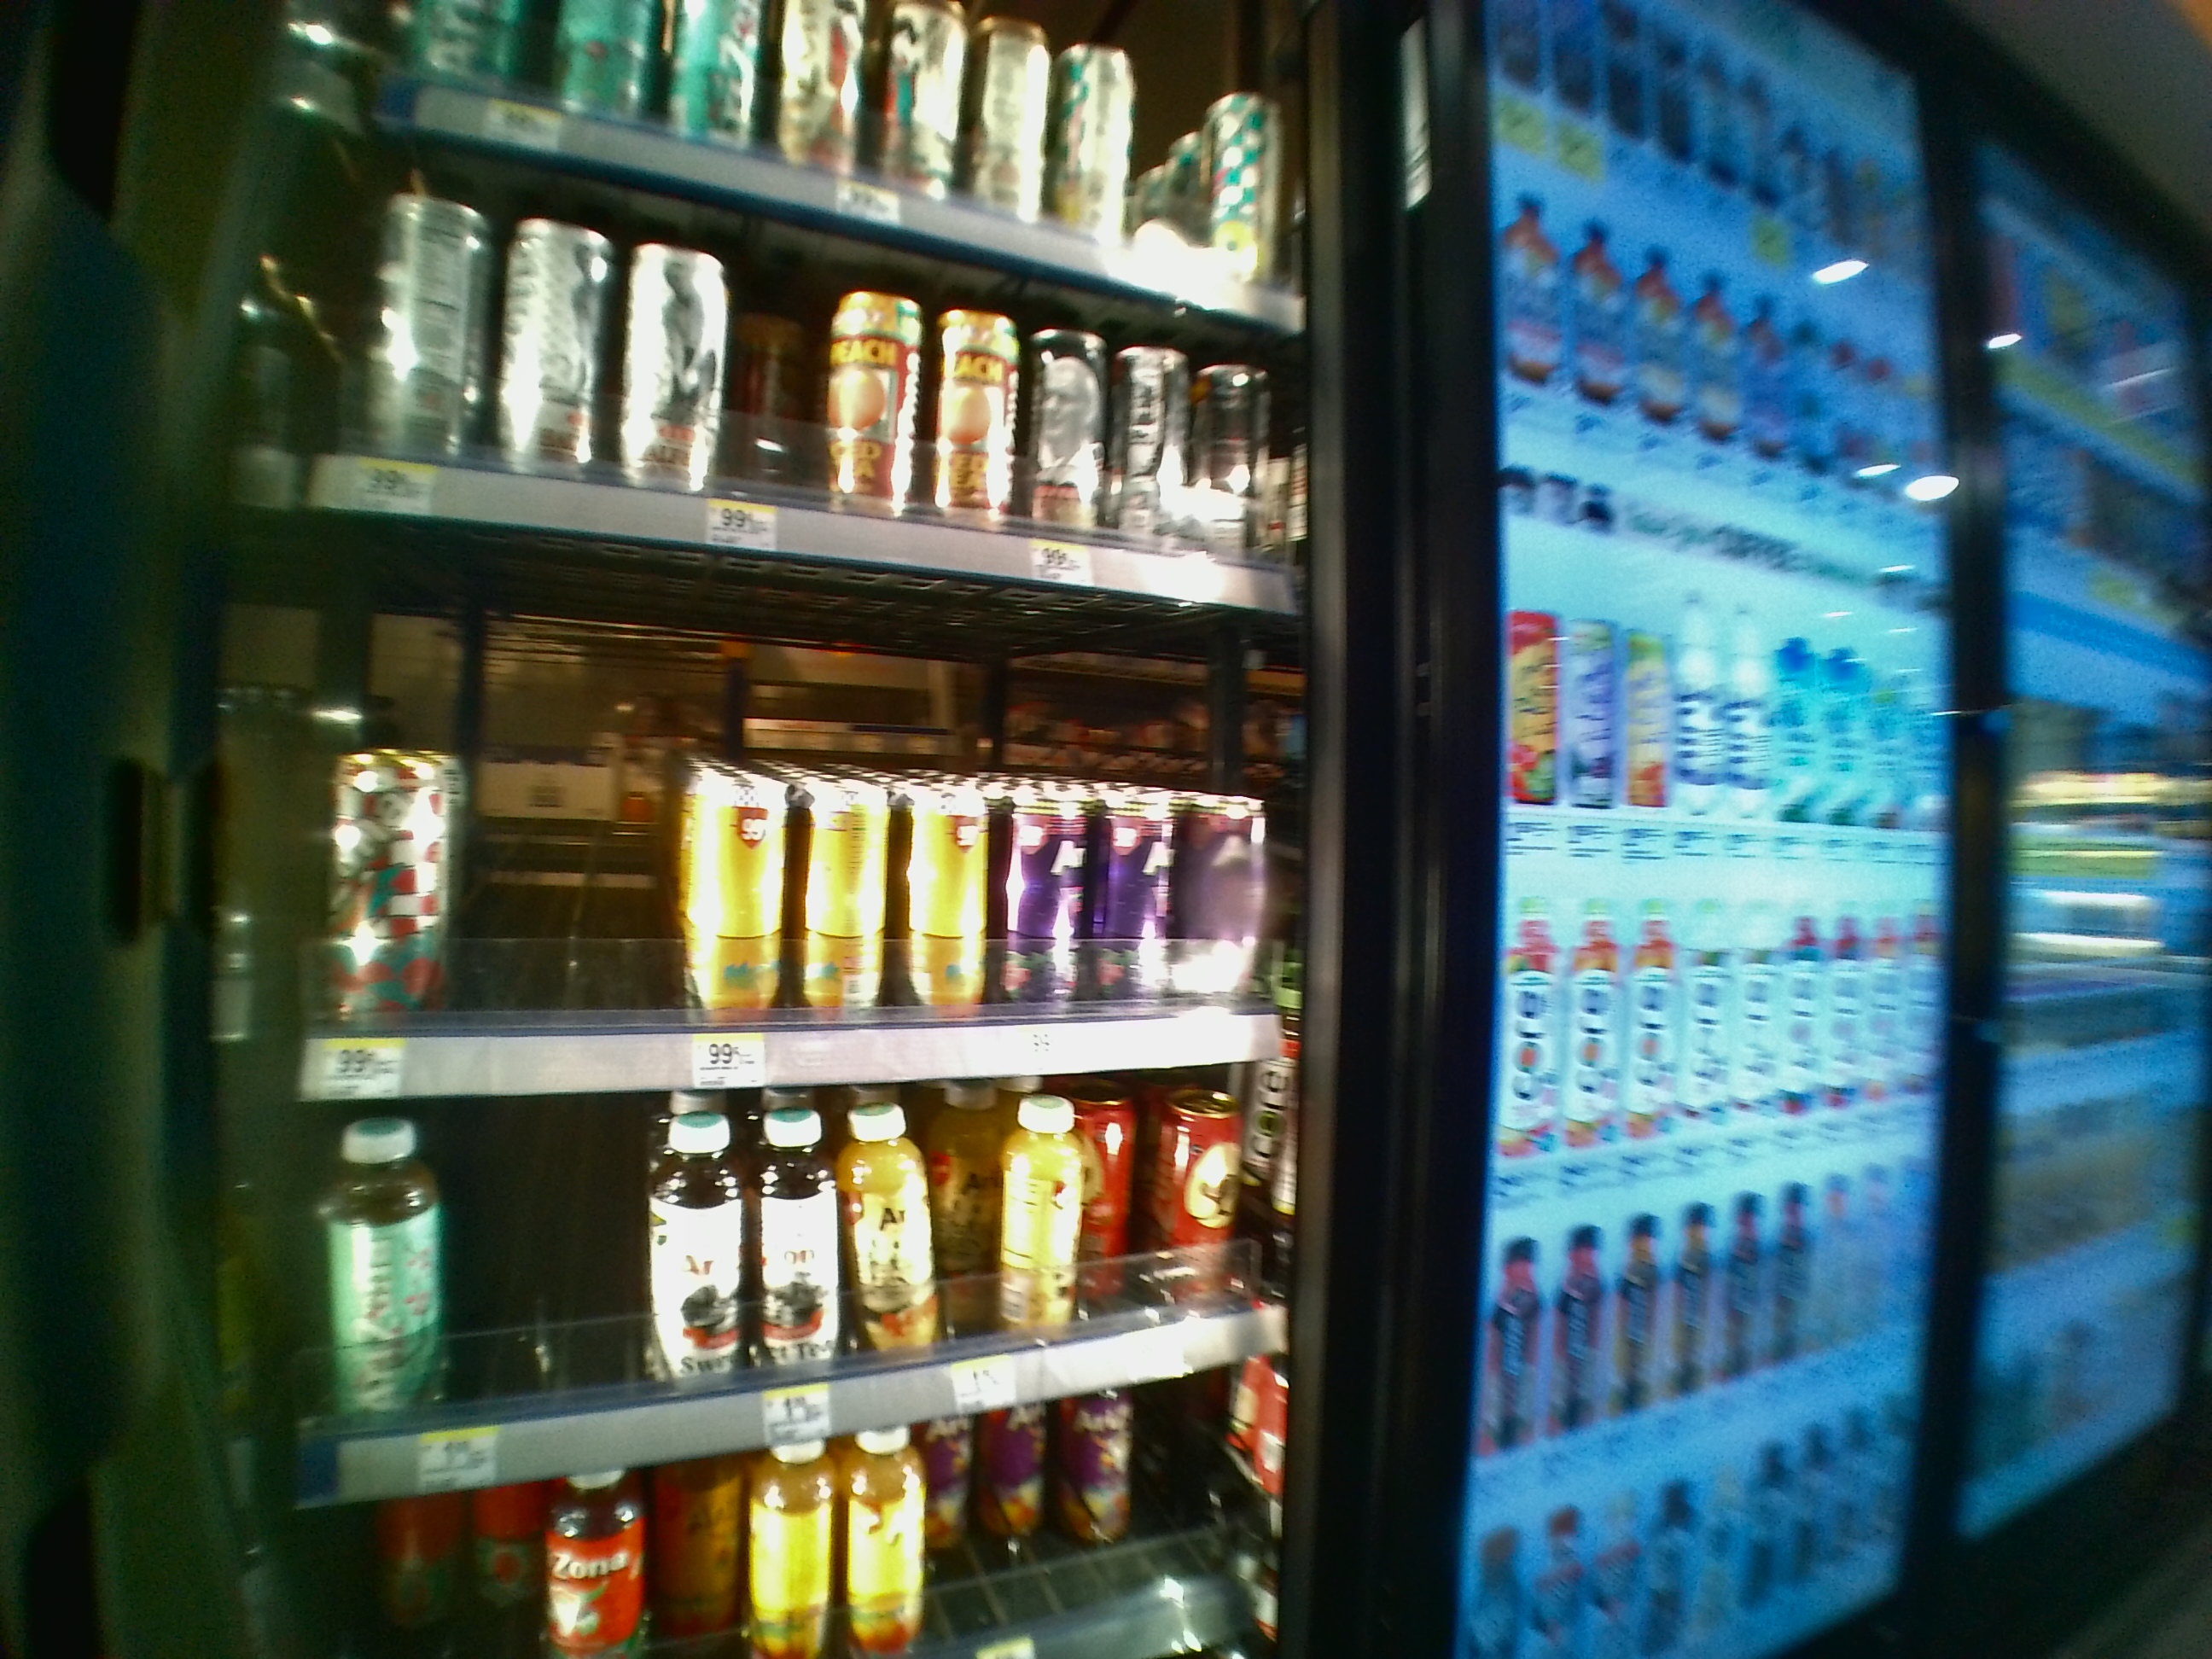shelf: (296, 540, 1294, 1093)
